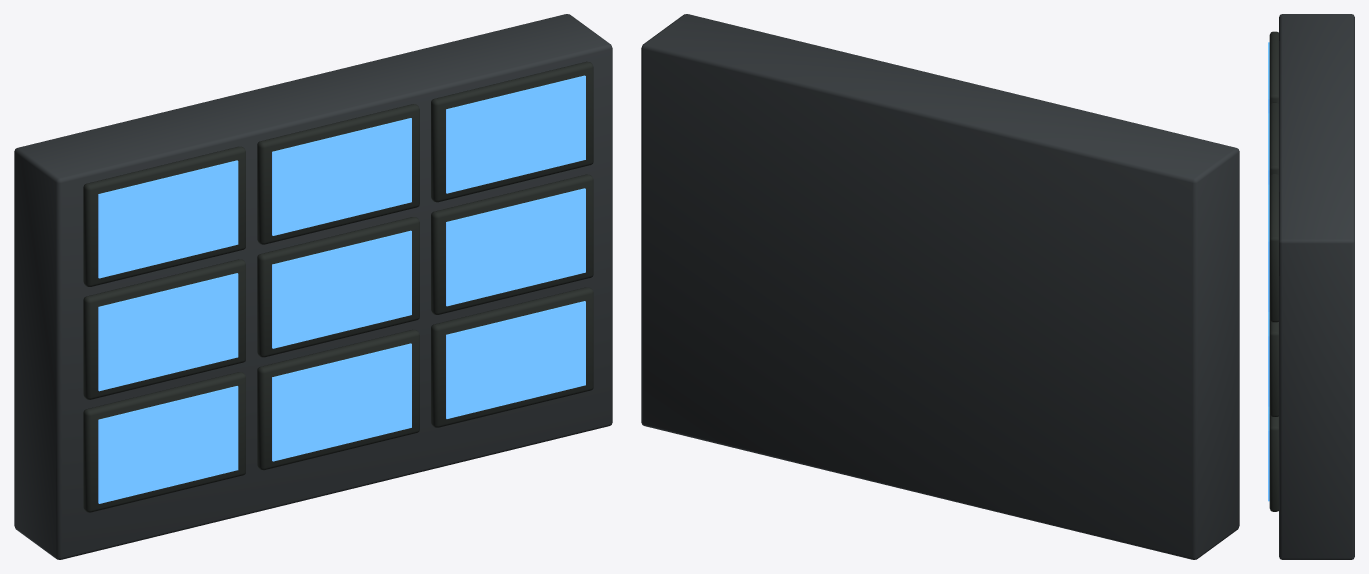
Rendered from monitor_wall.gltf.
The picture shows the model from 3 angles, left to right: view 1: azimuth 30°, elevation 25°; view 2: azimuth 150°, elevation 25°; view 3: azimuth 270°, elevation 25°; orthographic projection. The views are drawn at different scales.
Visible parts, largest first — view 1: monitor_wall_mesh, EMIT_screen_0, EMIT_screen_3, EMIT_screen_6, EMIT_screen_5, EMIT_screen_8, EMIT_screen_1, EMIT_screen_2, EMIT_screen_4, EMIT_screen_7; view 2: monitor_wall_mesh; view 3: monitor_wall_mesh, EMIT_screen_8, EMIT_screen_2, EMIT_screen_5, EMIT_screen_6, EMIT_screen_7.
Boxes of the visible parts, <box> form: monitor_wall_mesh: <box>14,14,612,559</box>; EMIT_screen_0: <box>98,386,238,503</box>; EMIT_screen_3: <box>98,273,238,391</box>; EMIT_screen_6: <box>98,160,238,278</box>; EMIT_screen_5: <box>446,188,585,306</box>; EMIT_screen_8: <box>446,75,585,193</box>; EMIT_screen_1: <box>272,343,411,461</box>; EMIT_screen_2: <box>446,301,585,418</box>; EMIT_screen_4: <box>272,230,411,348</box>; EMIT_screen_7: <box>272,118,411,235</box>; monitor_wall_mesh: <box>641,14,1239,559</box>; monitor_wall_mesh: <box>1269,14,1354,559</box>; EMIT_screen_8: <box>1268,184,1269,311</box>; EMIT_screen_2: <box>1268,406,1269,501</box>; EMIT_screen_5: <box>1268,312,1269,406</box>; EMIT_screen_6: <box>1268,42,1269,113</box>; EMIT_screen_7: <box>1268,113,1269,184</box>.
Bounding box in the file's own units: 3.2 × 2.1 × 0.515.
